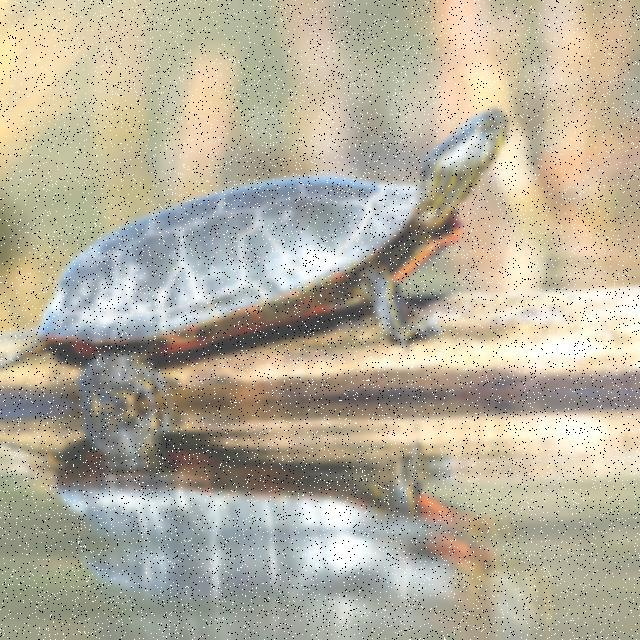tortoise: (37, 102, 529, 368)
